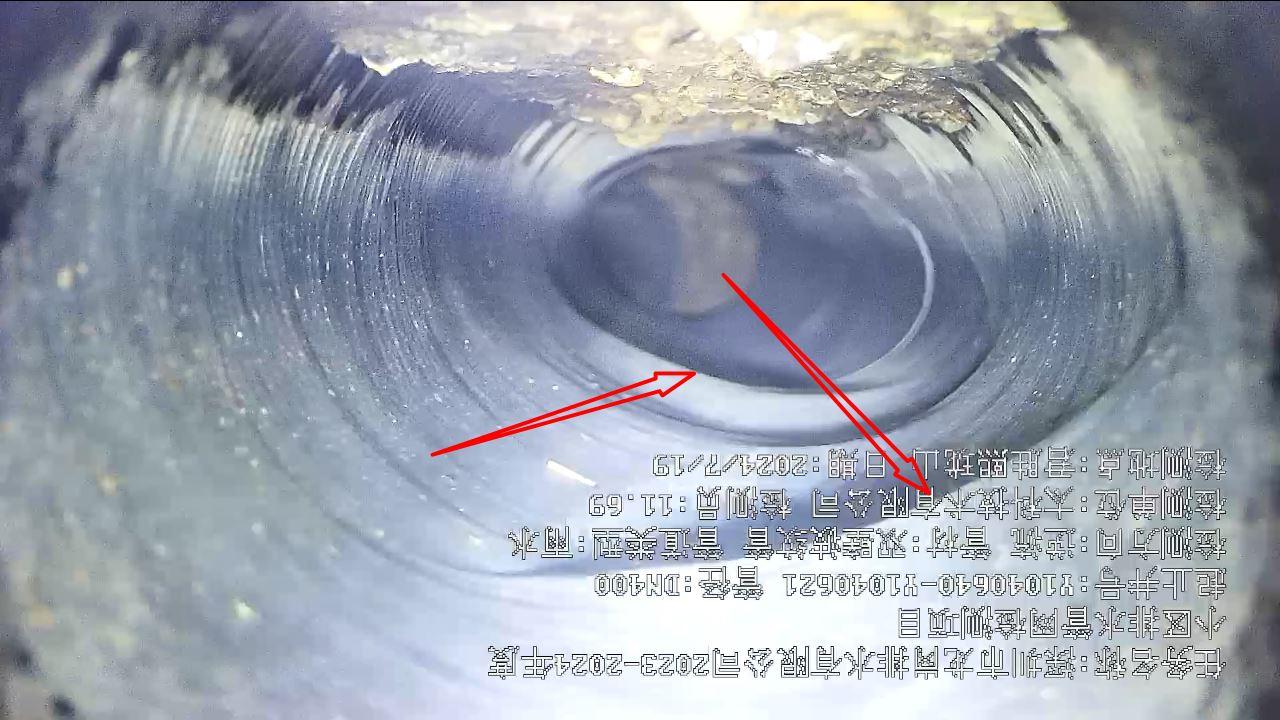BX: (291, 135, 1207, 602)
CJ: (297, 3, 1067, 147)
